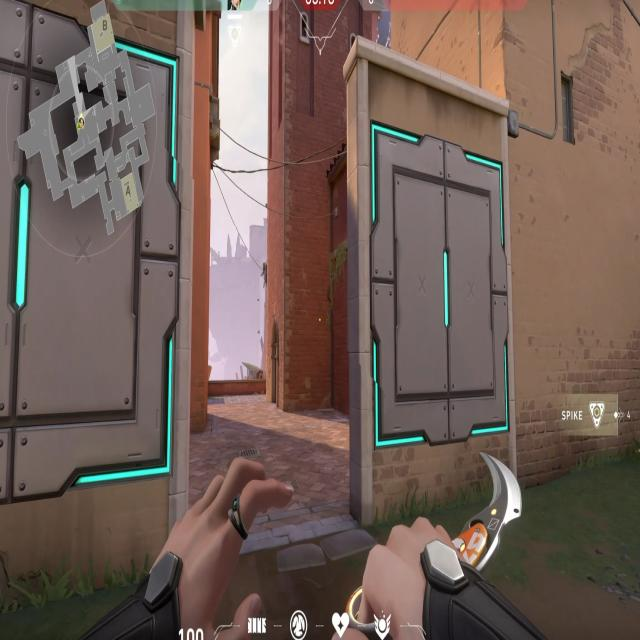Mid_Wall: (0, 5, 188, 577), (344, 66, 521, 523)
